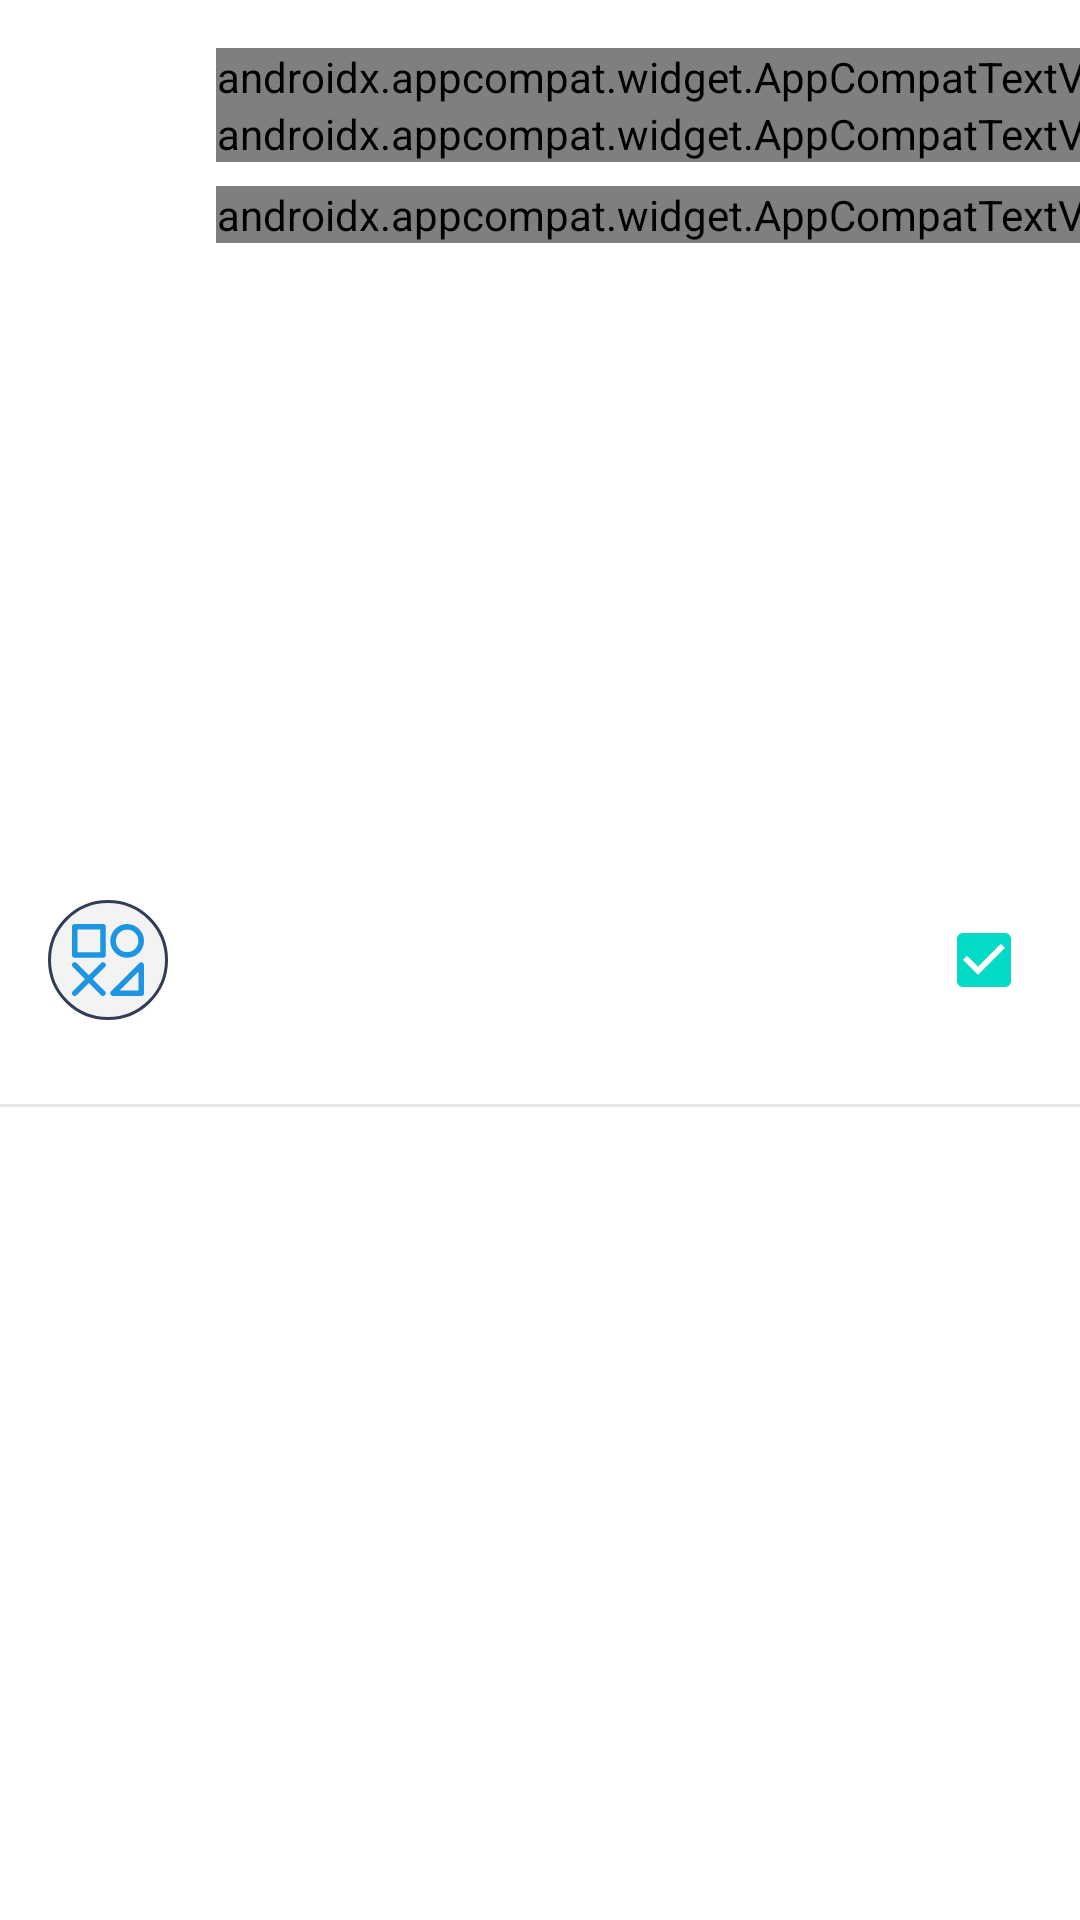

Locate icon controls on the screen. Image size 1080px x 1920px, boxes as detection(x1, y1, x2, y2).
category: detection(48, 900, 168, 1020)
